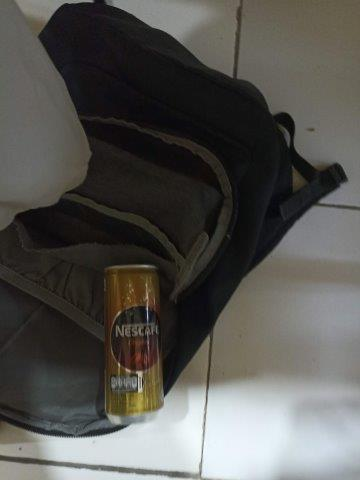kaleng: (103, 264, 165, 425)
